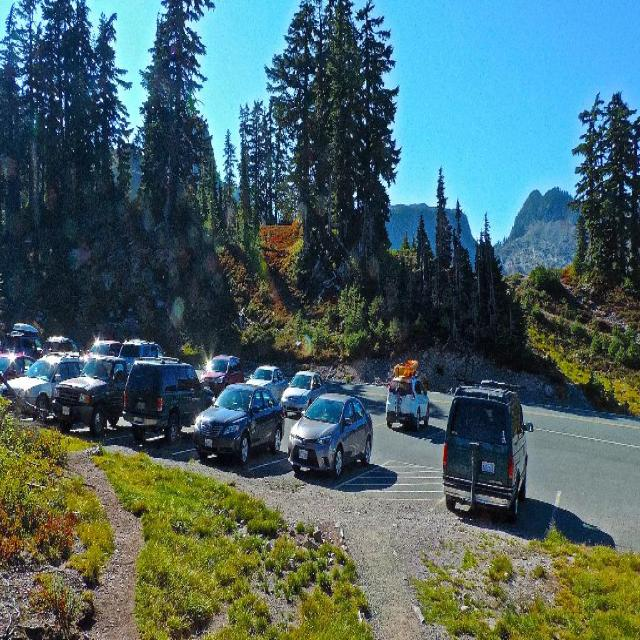car: (440, 369, 532, 525), (384, 377, 434, 433)
